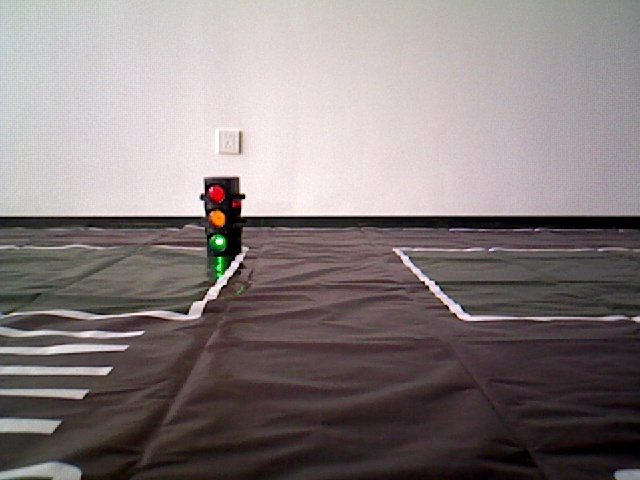green: (205, 181, 235, 249)
